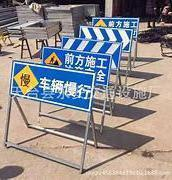sign: (5, 62, 96, 109), (43, 49, 109, 83), (91, 19, 139, 40)
